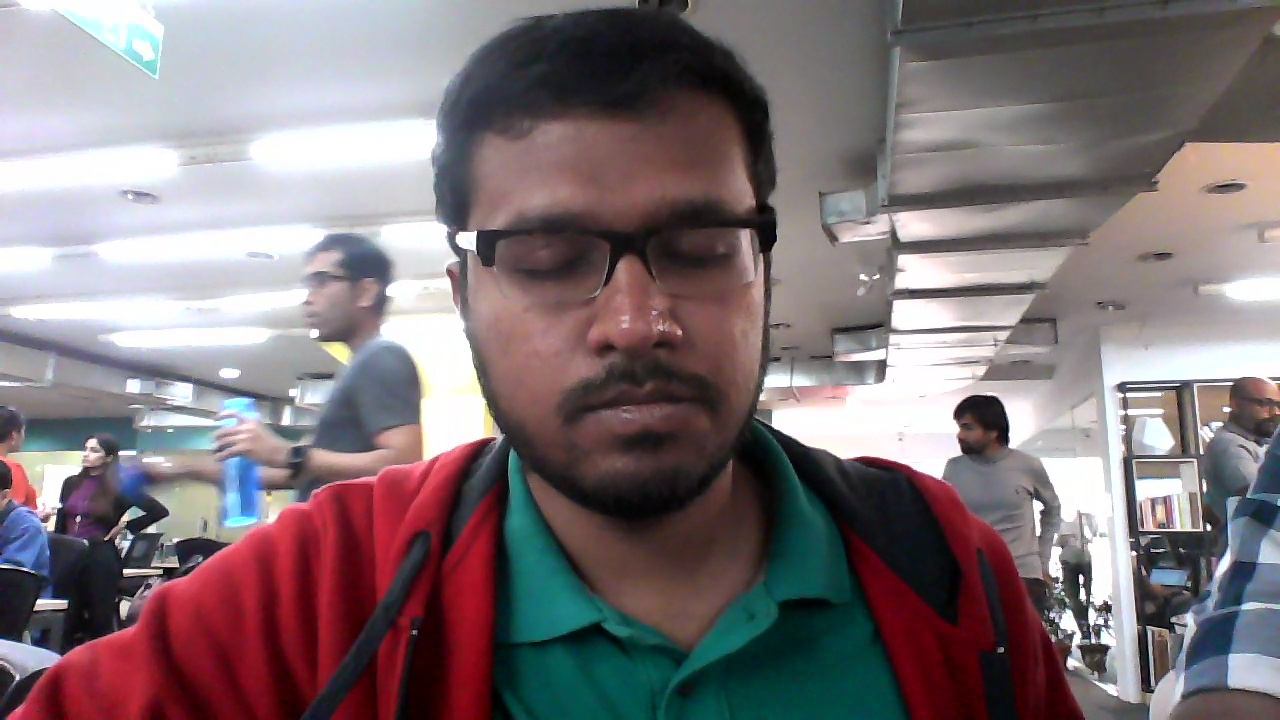closed: (438, 12, 781, 511)
